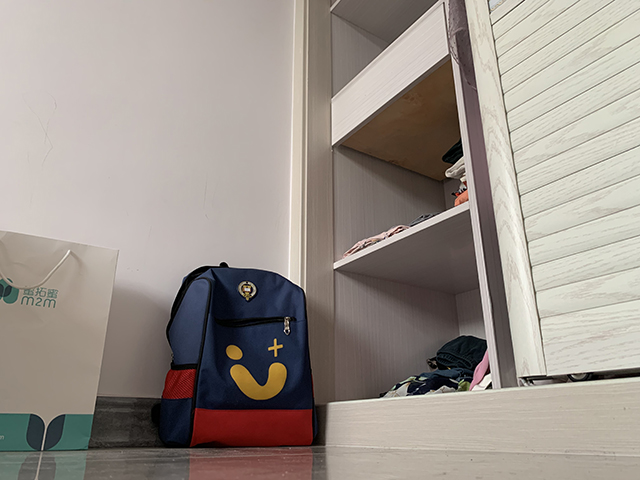cabinet: (289, 1, 640, 458)
